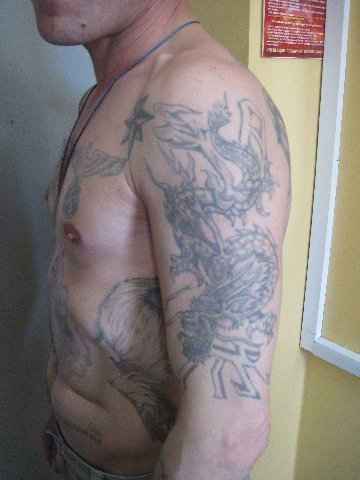tatu6_drakon: (151, 101, 289, 413)
